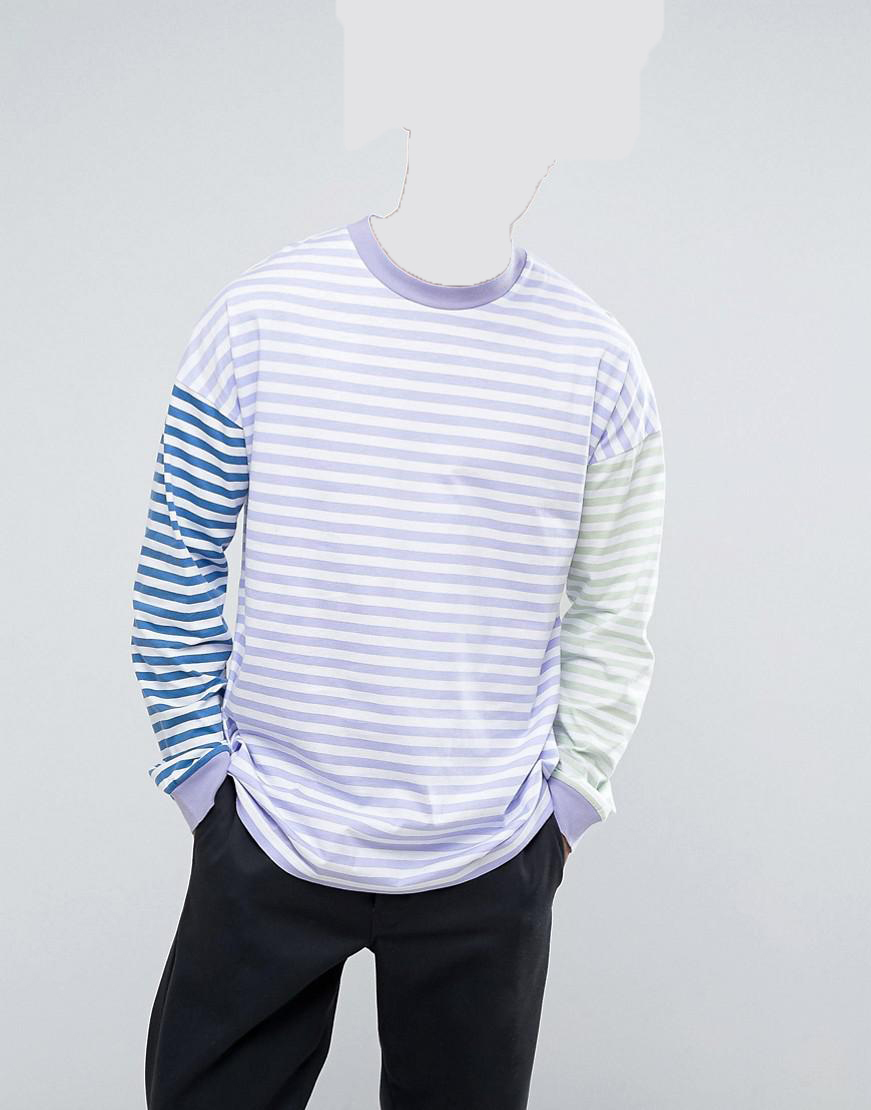teeshirt: (129, 213, 678, 896)
